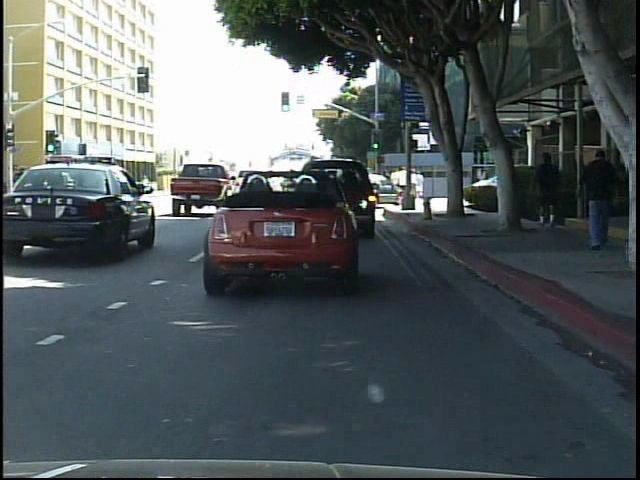person: (578, 141, 628, 260), (528, 146, 570, 236)
